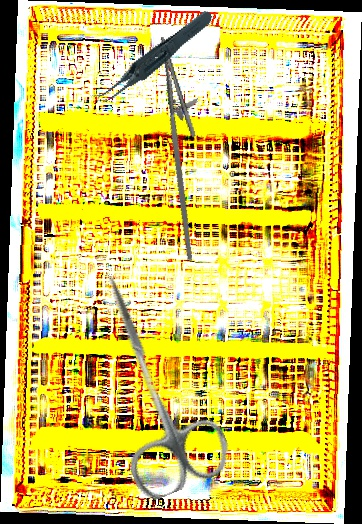Iris Scissors: (60, 259, 238, 505)
Needle Holder: (133, 32, 236, 261)
Tissue Forceps: (77, 8, 226, 107)
